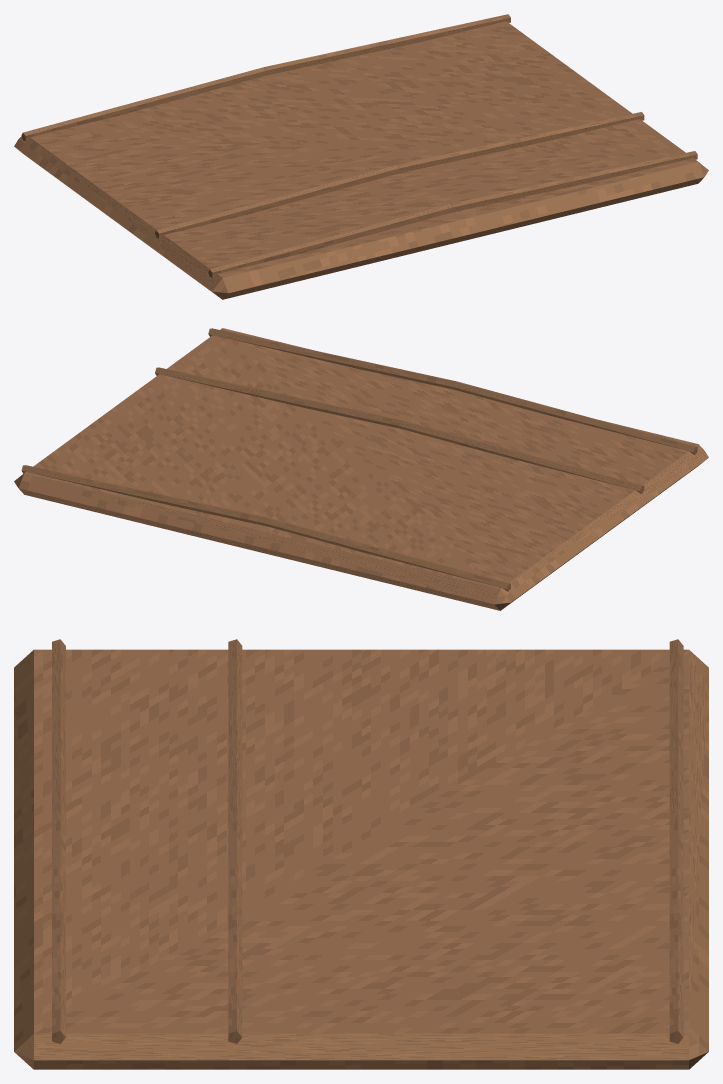
The model's file is tanned_hide.glb.
3 views of the same model, one above another, from view 1: azimuth 30°, elevation 25°; view 2: azimuth 150°, elevation 25°; view 3: azimuth 270°, elevation 25° (orthographic). The views are drawn at different scales.
Parts seen in each view (by area): view 1: block_folded fiber or fabric, block_textile edge 0 (×3), block_textile edge 1 (×3); view 2: block_folded fiber or fabric, block_textile edge 0 (×3), block_textile edge 1 (×3); view 3: block_folded fiber or fabric, block_textile edge 1 (×3), block_textile edge 0 (×3).
Part boxes in pixels (x1,y1,x2,y2): block_folded fiber or fabric: [14, 21, 708, 299]; block_textile edge 0 (×3): [21, 67, 453, 277]; block_textile edge 1 (×3): [264, 14, 697, 212]; block_folded fiber or fabric: [14, 328, 708, 610]; block_textile edge 0 (×3): [266, 381, 697, 591]; block_textile edge 1 (×3): [21, 328, 455, 526]; block_folded fiber or fabric: [14, 649, 708, 1069]; block_textile edge 1 (×3): [52, 823, 683, 1043]; block_textile edge 0 (×3): [52, 639, 683, 828].
Size of the model in its own units: 0.1085 by 0.00677 by 0.0795.
Materials: 1 (1 with a texture image).
